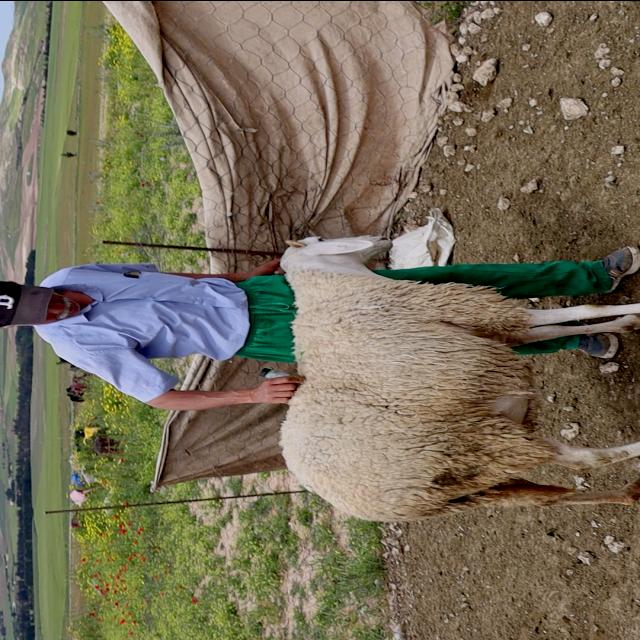Score_5: (280, 235, 639, 521)
